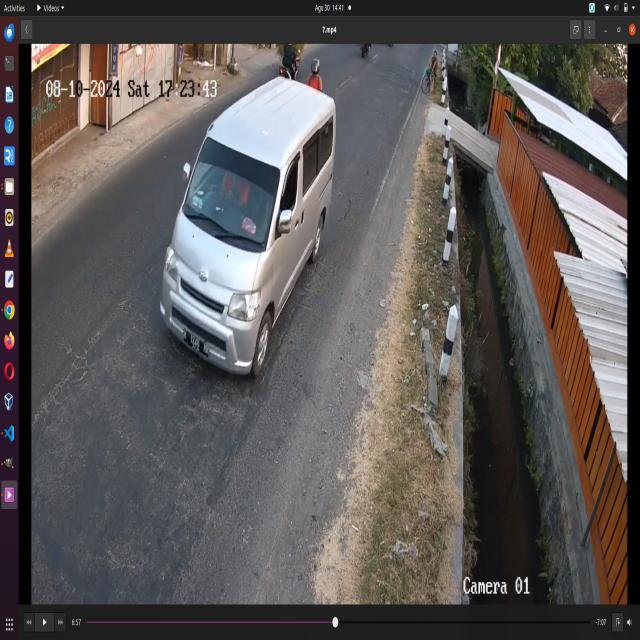person_with_seatbelt: (211, 159, 250, 223)
